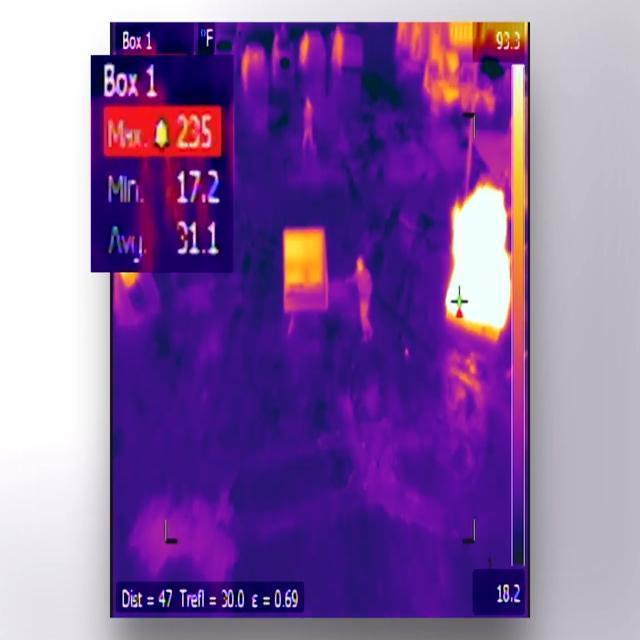fire: (446, 185, 514, 334)
